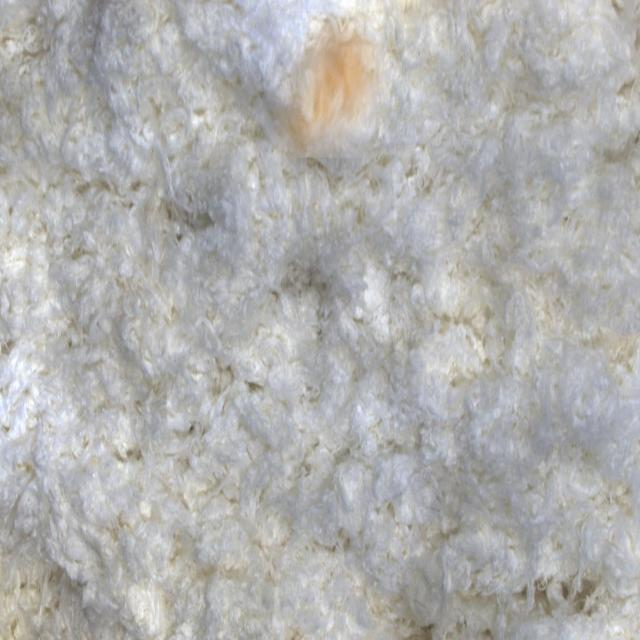dust: (272, 11, 393, 158)
